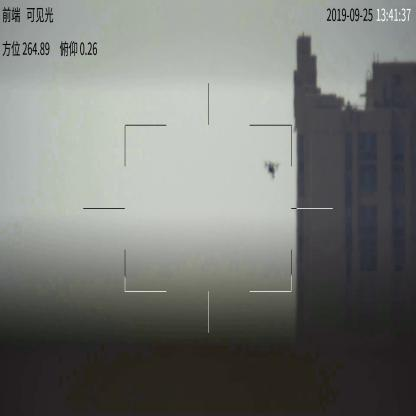uav: (262, 158, 282, 183)
